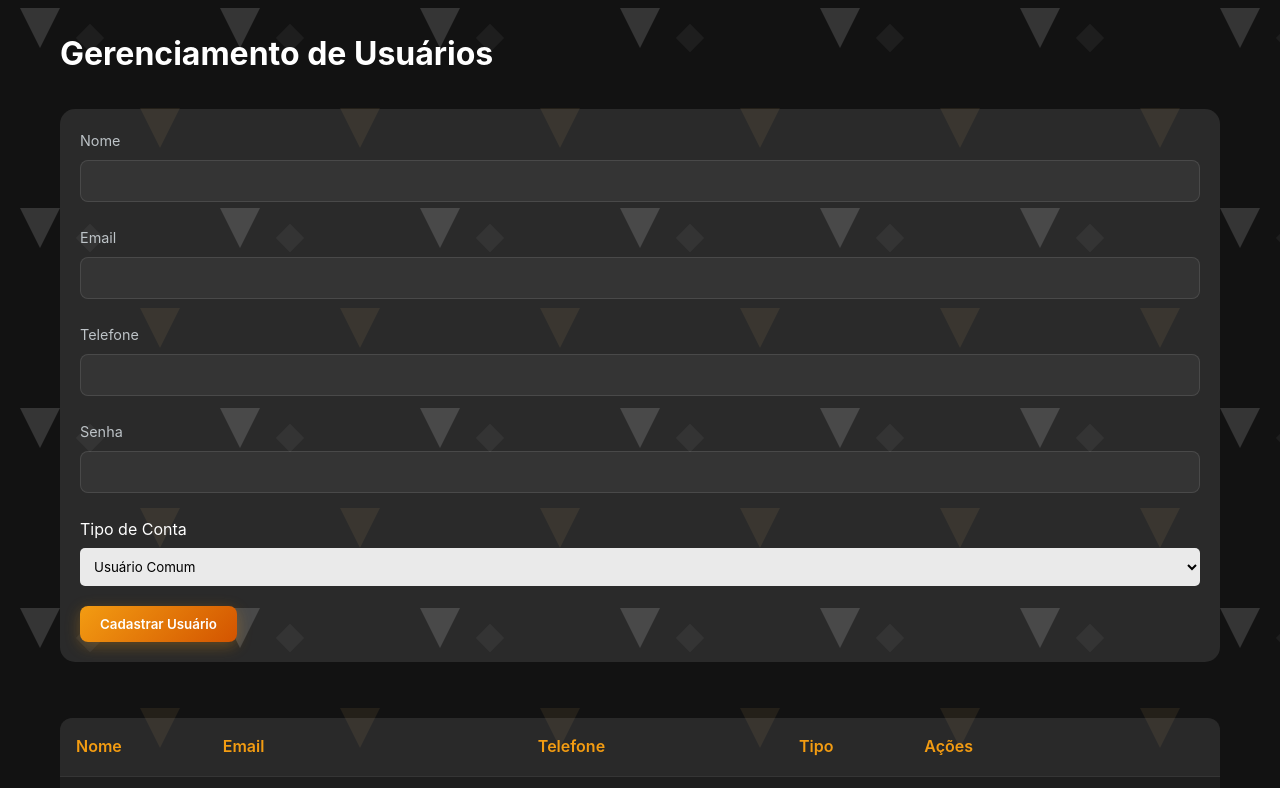
Test: cadastro com o backend fora do ar não guarda a senha no navegador
This screenshot has width=1280, height=788.
Type "Bia" into the field labelled "Nome".
click(640, 181); type("Bia")  # box [80,160,1200,202]
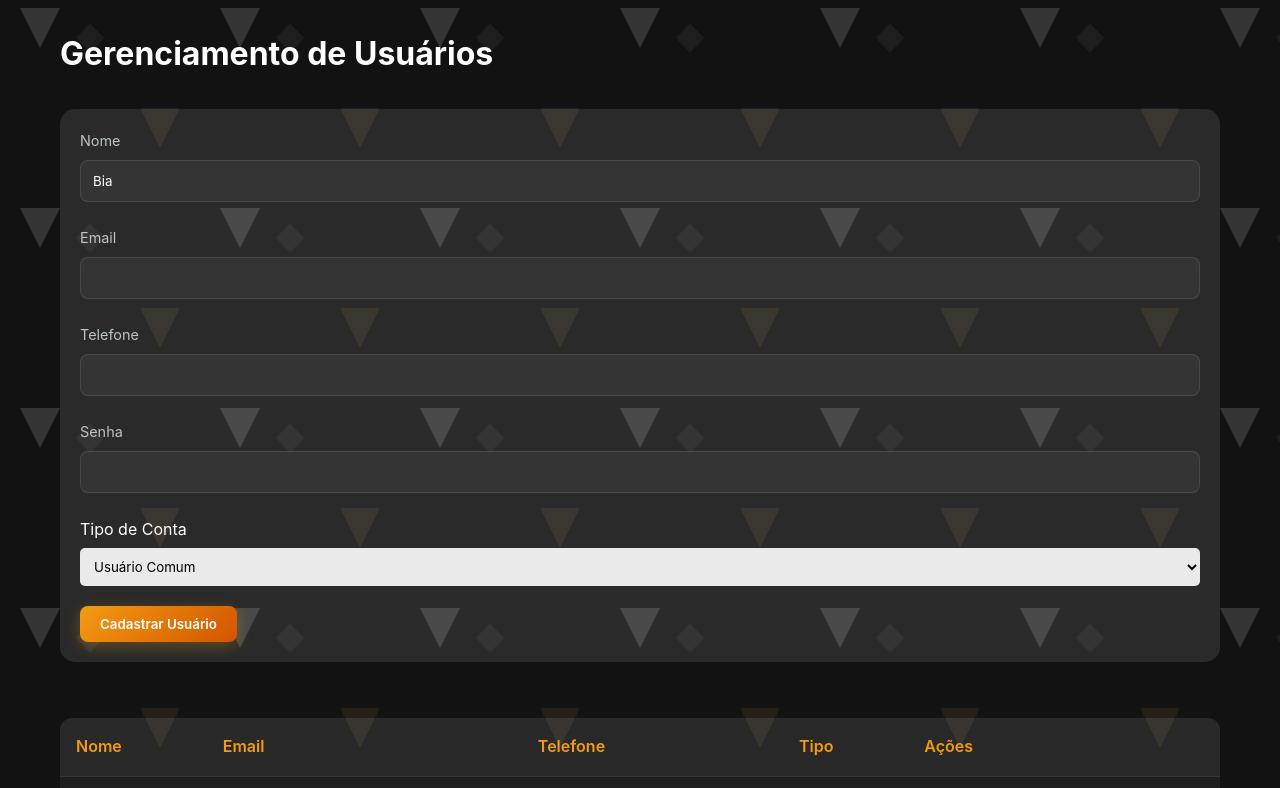
Type "bia@cevada.com" into the field labelled "Email".
click(640, 278); type("bia@cevada.com")  # box [80,257,1200,299]
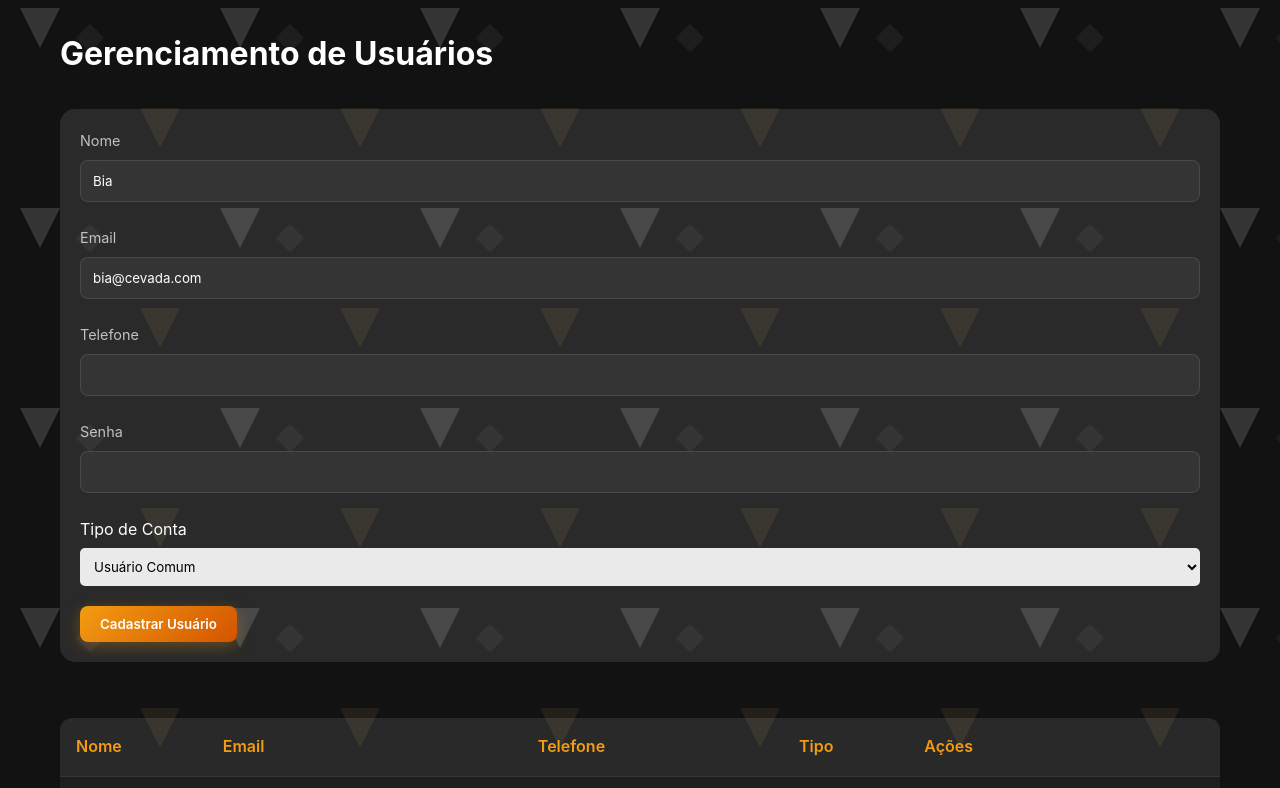
Type "61988880000" into the field labelled "Telefone".
click(640, 375); type("61988880000")  # box [80,354,1200,396]
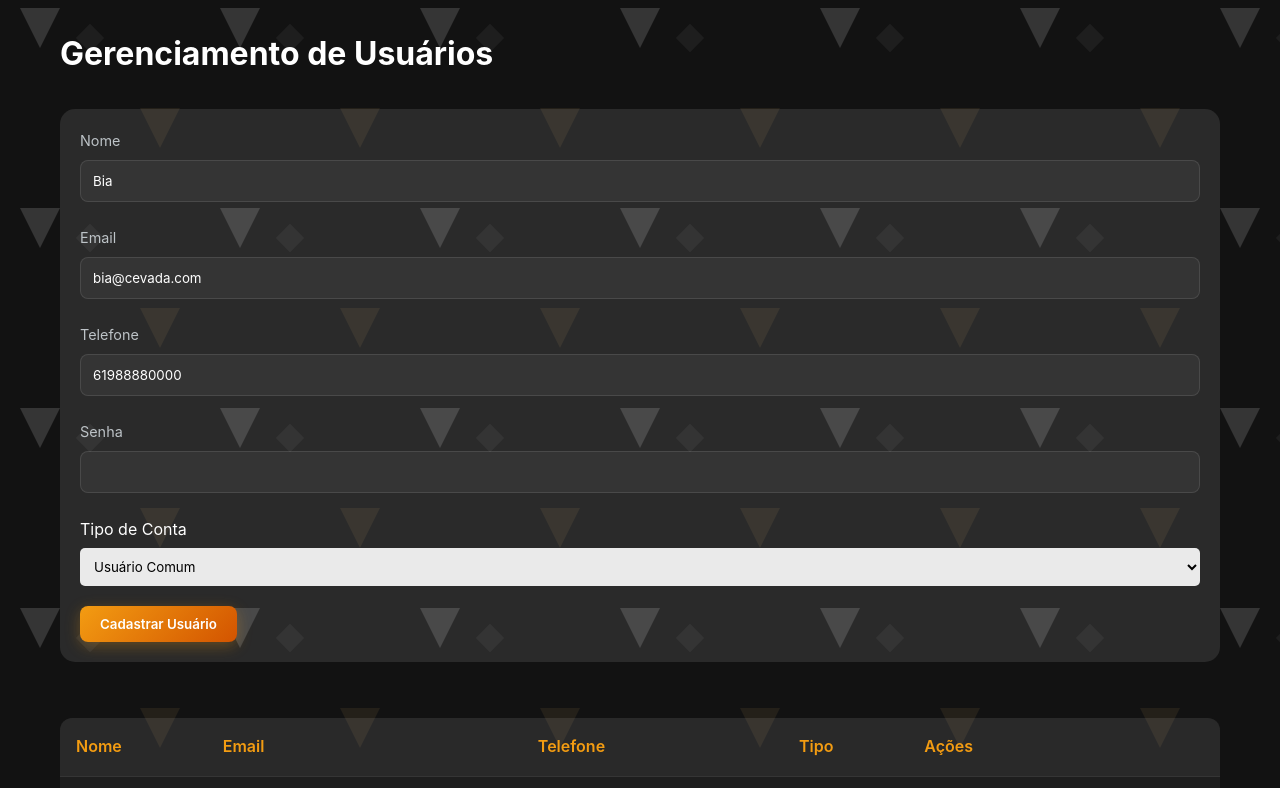
Type "segredo123" into the password field labelled "Senha".
click(640, 472); type("segredo123")  # box [80,451,1200,493]
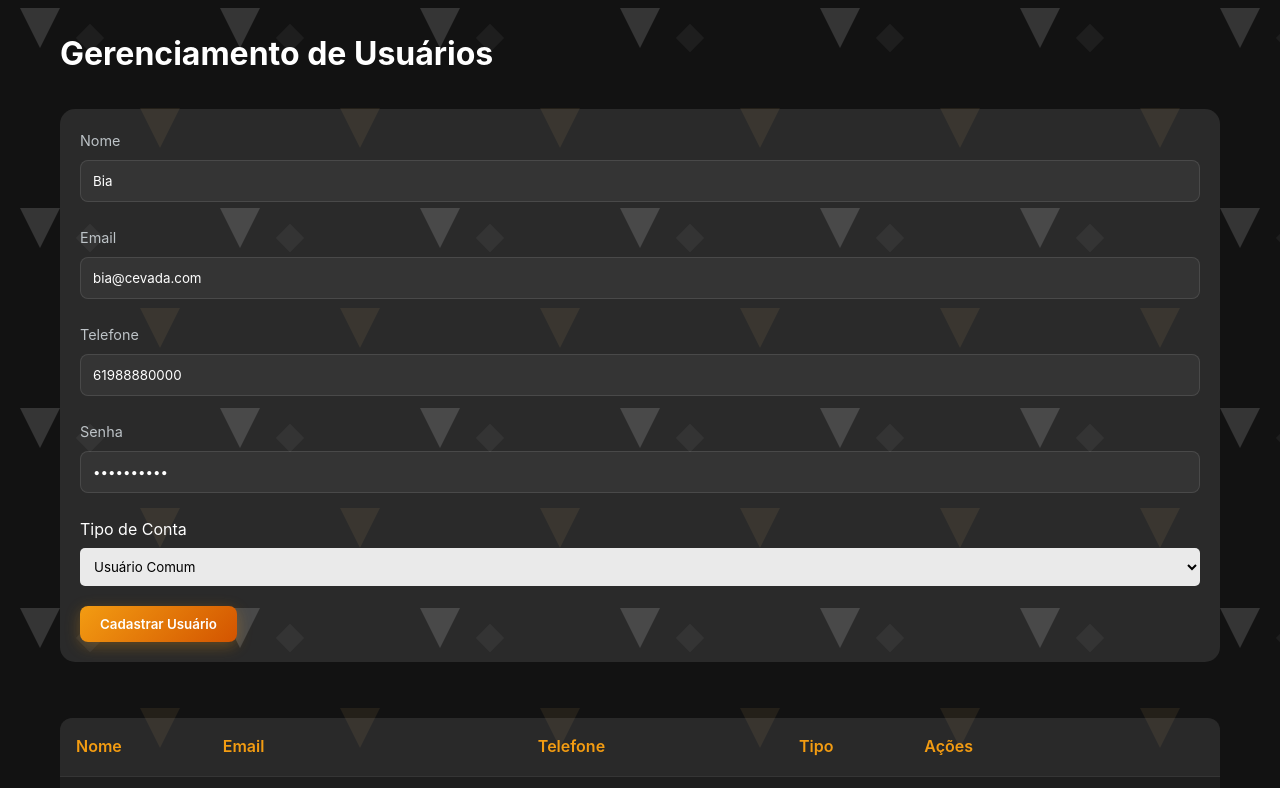
Click the button "Cadastrar Usuário".
click(158, 624)  # box [80,606,237,642]
(page scrolled)
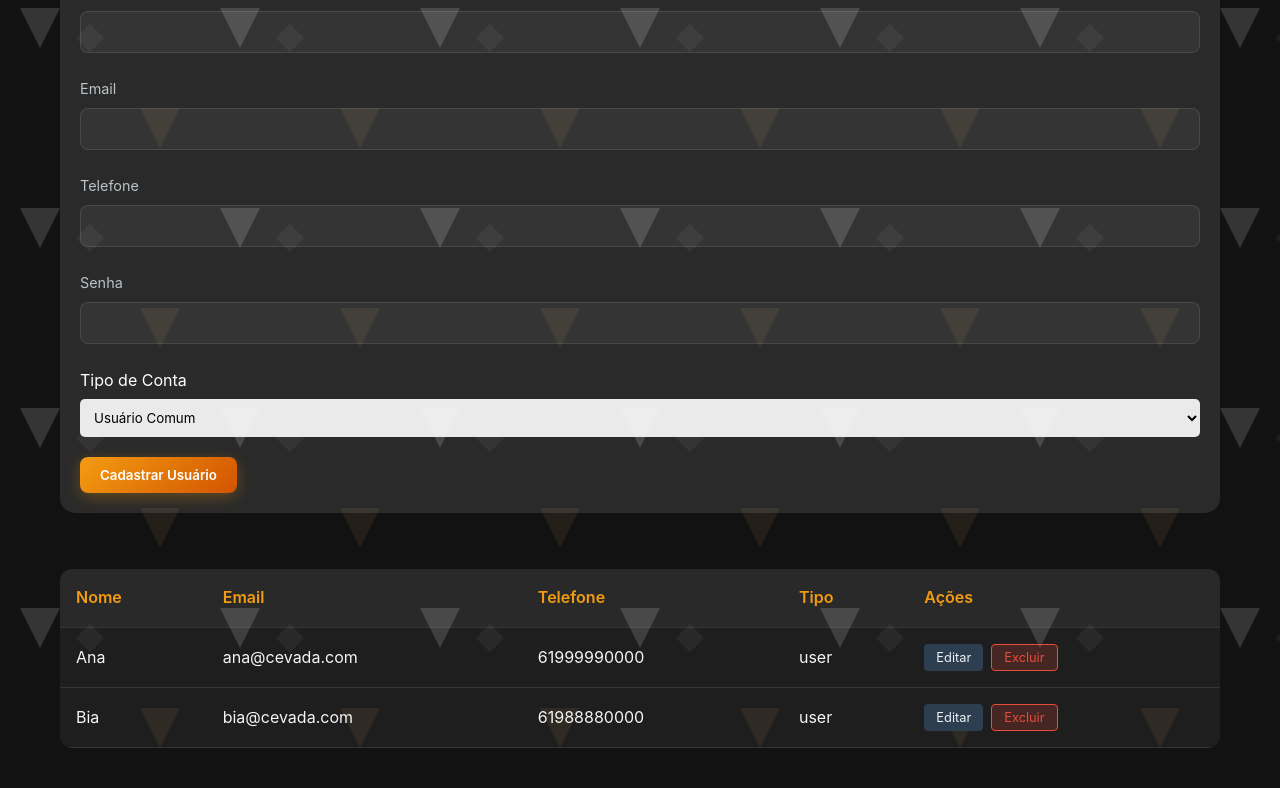
Expected: the text "Bia" is shown, [60,688,207,748]
